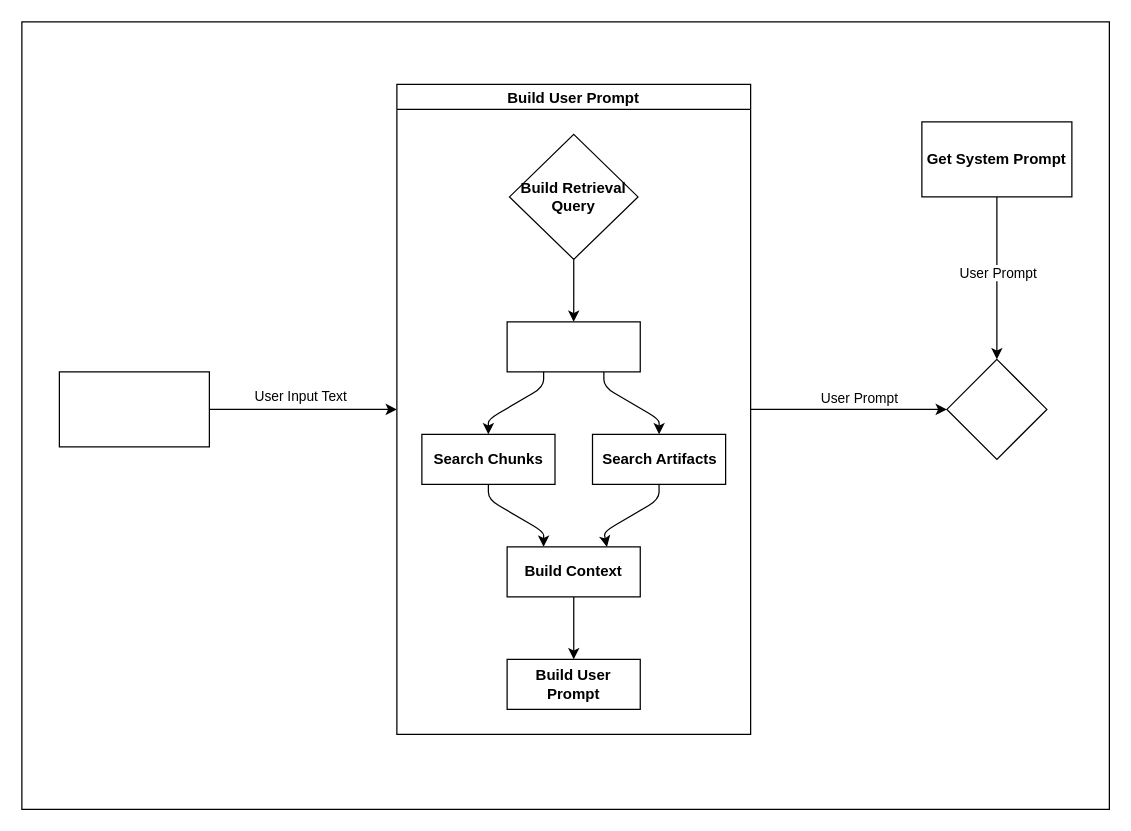
The diagram is 1131 pixels wide and 831 high, and some of its shapes have lost their labels. The shapes that lost their labels are listed below. From the top down, each one's centre as x and y in pixels, then its label:
pixel 573 346: Embedd Retrieval Query
pixel 133 409: Start Chat
pixel 996 408: Query LLM
